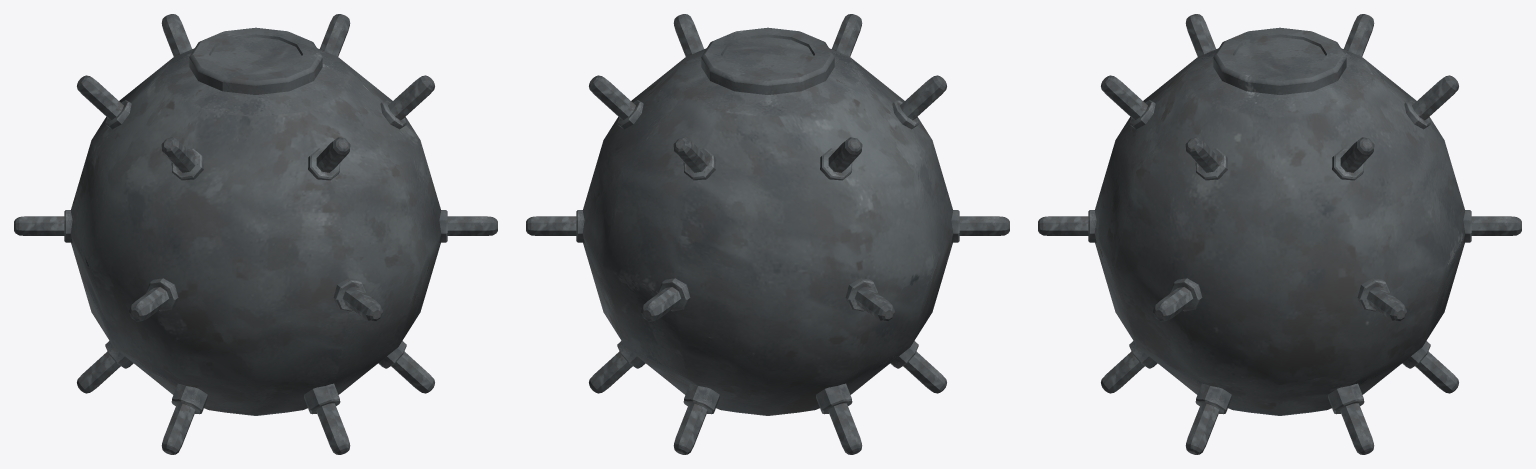
The model's file is mine.fbx.
3 views of the same model, side by side, from view 1: azimuth 30°, elevation 25°; view 2: azimuth 150°, elevation 25°; view 3: azimuth 270°, elevation 25° (orthographic).
Visible parts, largest first — view 1: Sphere001; view 2: Sphere001; view 3: Sphere001.
Part boxes in pixels (bbox=[...]): Sphere001: bbox=[14, 14, 497, 454]; Sphere001: bbox=[526, 14, 1009, 454]; Sphere001: bbox=[1038, 14, 1521, 454].
Size of the model in its own units: 55.83 by 49.97 by 63.67.
